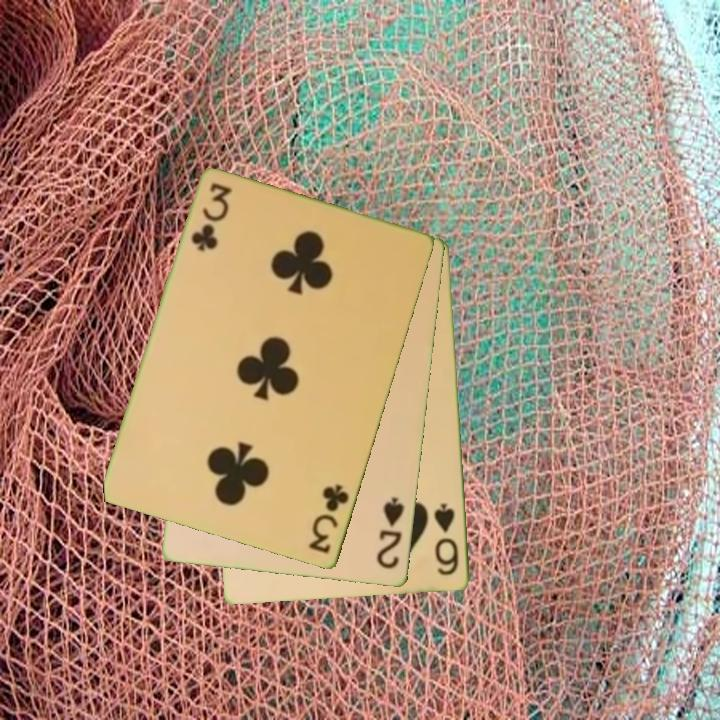2s: (373, 494, 407, 572)
3c: (305, 481, 352, 557), (187, 180, 233, 255)
6s: (431, 500, 462, 578)
